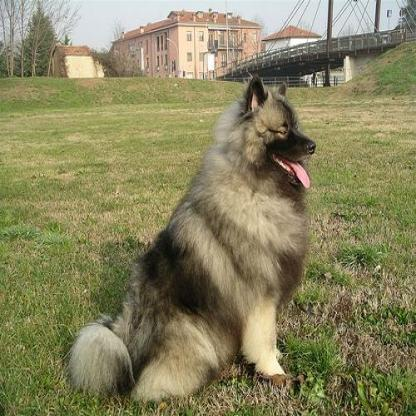keeshond: (60, 69, 315, 406)
